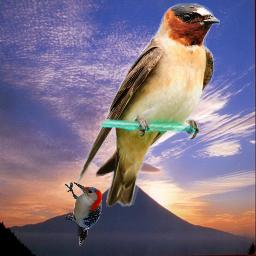Swallow: (77, 3, 220, 207)
Woodpecker: (65, 182, 102, 246)
